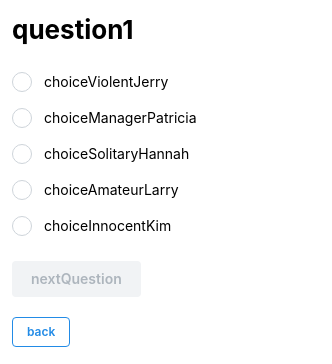
it: next button enables after selecting a choice
Click the text "choiceViolentJerry": (100, 82) [32,72,168,92]
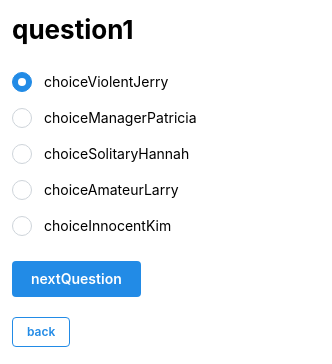
Now the button "nextQuestion" is enabled, box [12,261,141,297]
